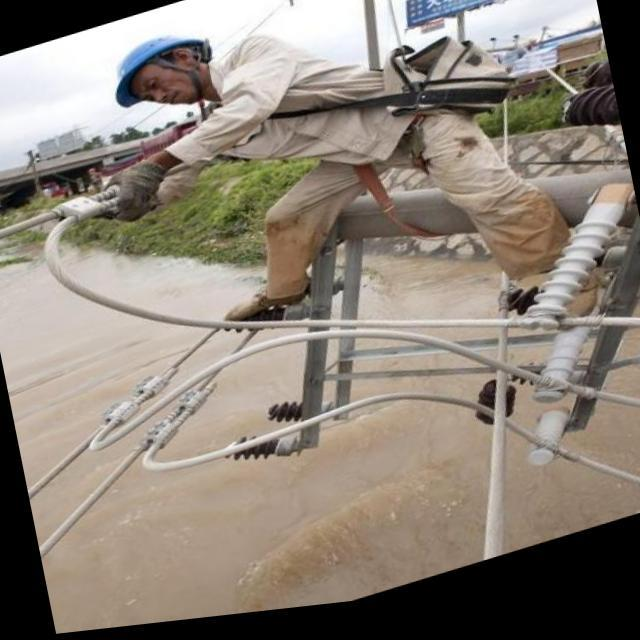belt: (315, 85, 432, 204)
